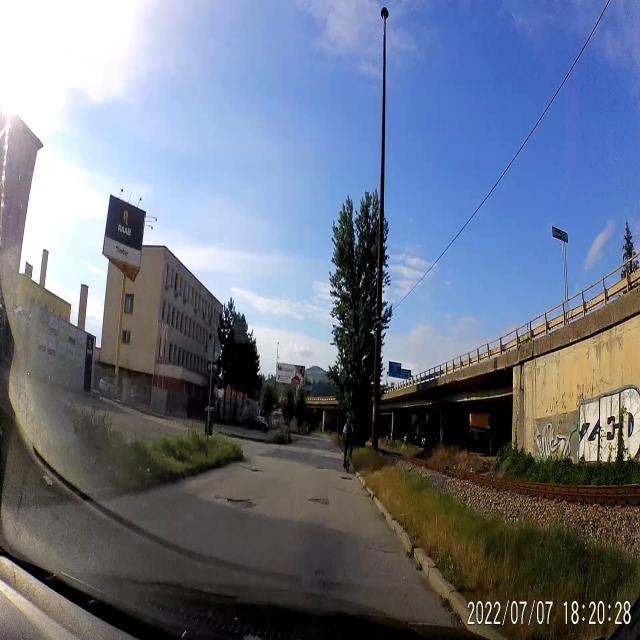Pothole: (214, 491, 258, 509), (319, 580, 343, 594), (306, 494, 331, 507), (239, 464, 269, 474), (313, 569, 325, 579), (341, 476, 354, 480), (316, 466, 326, 470)
